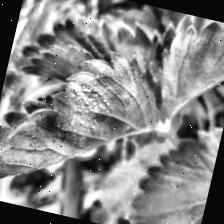Powdery Mildew Leaf: (0, 27, 182, 222)
